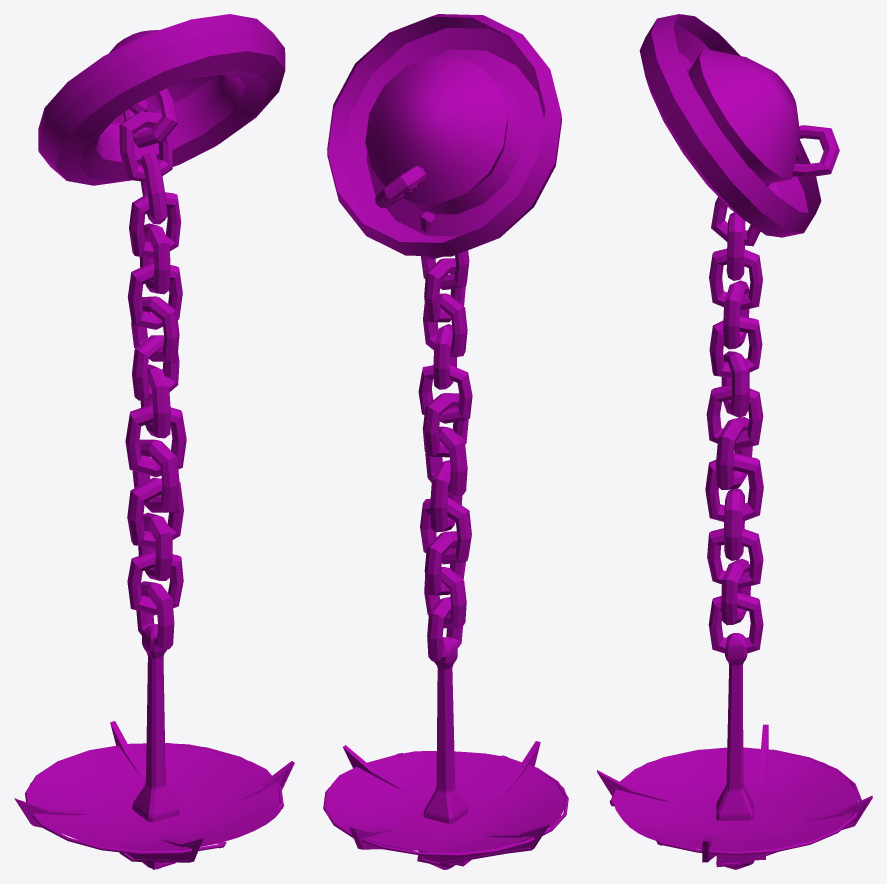
File: Anchor.fbx
The picture shows the model from 3 angles, left to right: view 1: azimuth 30°, elevation 25°; view 2: azimuth 150°, elevation 25°; view 3: azimuth 270°, elevation 25°; orthographic projection. The views are drawn at different scales.
Visible parts, largest first — view 1: Anchor; view 2: Anchor; view 3: Anchor.
Part boxes in pixels (x1=…): Anchor: x1=14, y1=14, x2=294, y2=869; Anchor: x1=323, y1=14, x2=568, y2=869; Anchor: x1=597, y1=14, x2=872, y2=869.
Size of the model in its own units: 3.15 by 10.65 by 3.15.
